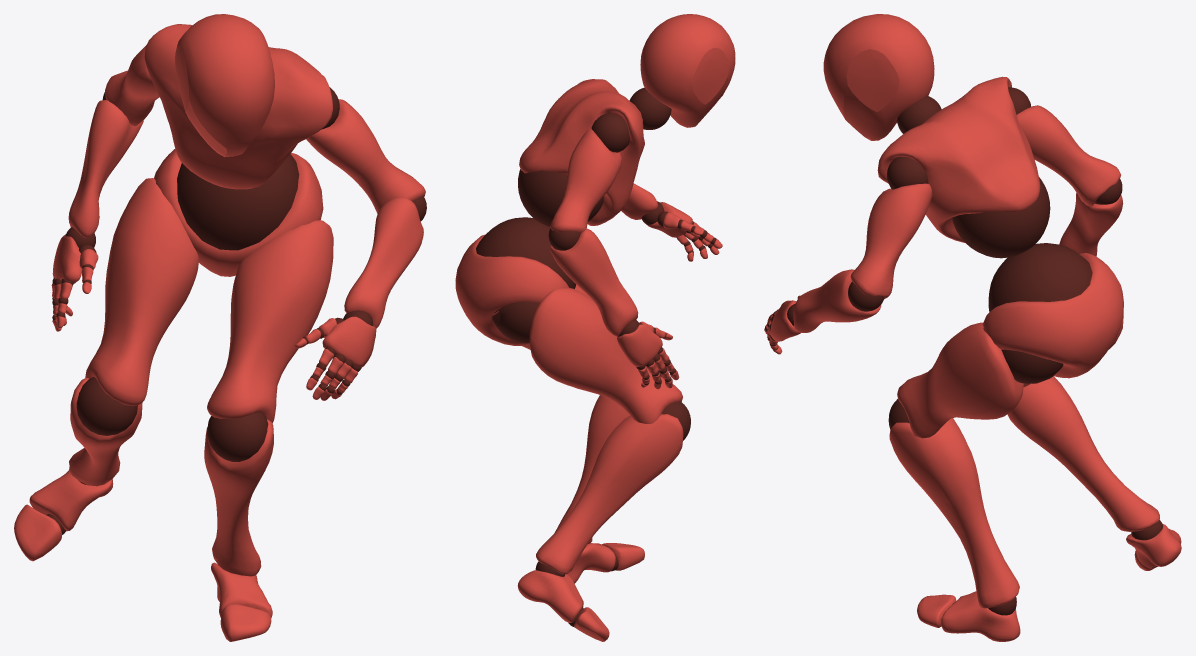
3 views of the same model, side by side, from view 1: azimuth 30°, elevation 25°; view 2: azimuth 150°, elevation 25°; view 3: azimuth 270°, elevation 25° (orthographic). The views are drawn at different scales.
Visible parts, largest first — view 1: Beta_Surface, Beta_Joints; view 2: Beta_Surface, Beta_Joints; view 3: Beta_Surface, Beta_Joints.
Boxes of the visible parts, x1=… form: Beta_Surface: x1=14, y1=14, x2=425, y2=641; Beta_Joints: x1=46, y1=87, x2=426, y2=534; Beta_Surface: x1=455, y1=14, x2=735, y2=641; Beta_Joints: x1=476, y1=87, x2=716, y2=627; Beta_Surface: x1=764, y1=14, x2=1181, y2=641; Beta_Joints: x1=765, y1=87, x2=1163, y2=615.
Size of the model in its own units: 0.6109 by 1.42 by 0.9129.
